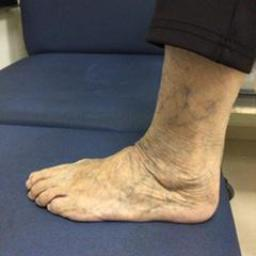Lateral View -Left Foot-: (19, 111, 233, 228)
